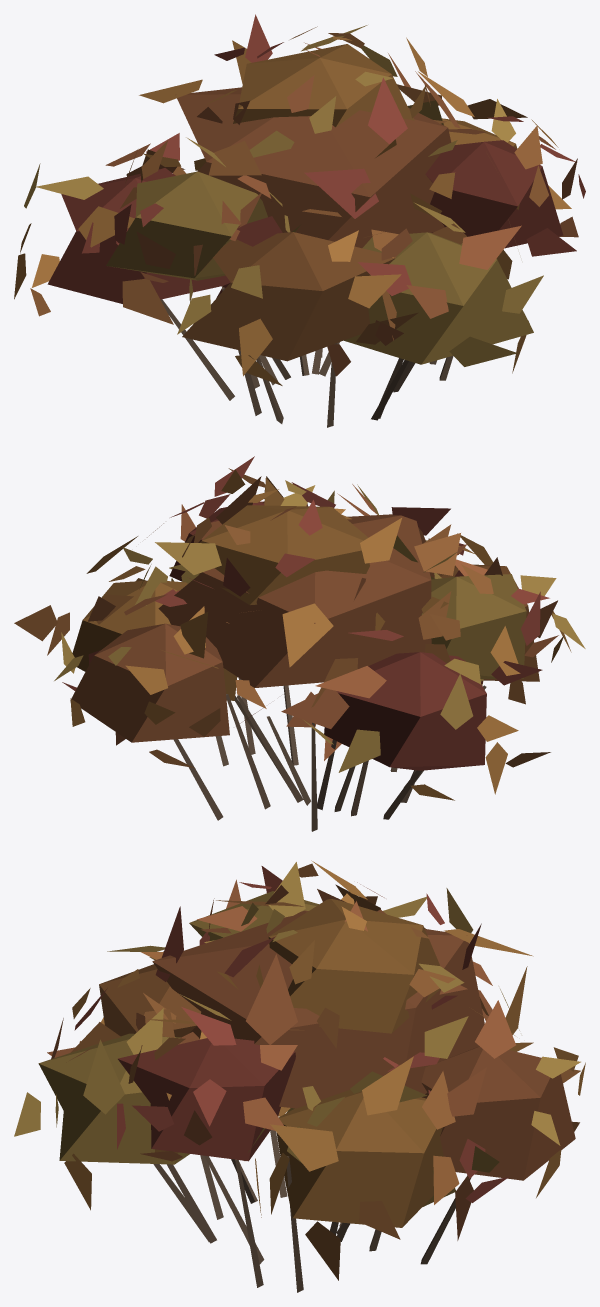
Rendered from sand-plum-high.glb.
3 renders of one model, top to bottom at view 1: azimuth 30°, elevation 25°; view 2: azimuth 150°, elevation 25°; view 3: azimuth 270°, elevation 25°, orthographic. The views are drawn at different scales.
Parts seen in each view (by area): view 1: sand-plum-high / foliage-core, sand-plum-high / foliage, sand-plum-high / wood; view 2: sand-plum-high / foliage-core, sand-plum-high / foliage, sand-plum-high / wood; view 3: sand-plum-high / foliage-core, sand-plum-high / foliage, sand-plum-high / wood.
Boxes of the visible parts, <box> form: sand-plum-high / foliage-core: <box>47,44,563,364</box>; sand-plum-high / foliage: <box>14,14,585,385</box>; sand-plum-high / wood: <box>160,286,453,427</box>; sand-plum-high / foliage-core: <box>70,501,539,770</box>; sand-plum-high / foliage: <box>14,456,585,800</box>; sand-plum-high / wood: <box>174,678,486,831</box>; sand-plum-high / foliage-core: <box>38,891,575,1227</box>; sand-plum-high / foliage: <box>14,860,585,1280</box>; sand-plum-high / wood: <box>153,1130,471,1292</box>.
Bounding box in the file's own units: 3.16 × 1.9 × 2.81.
